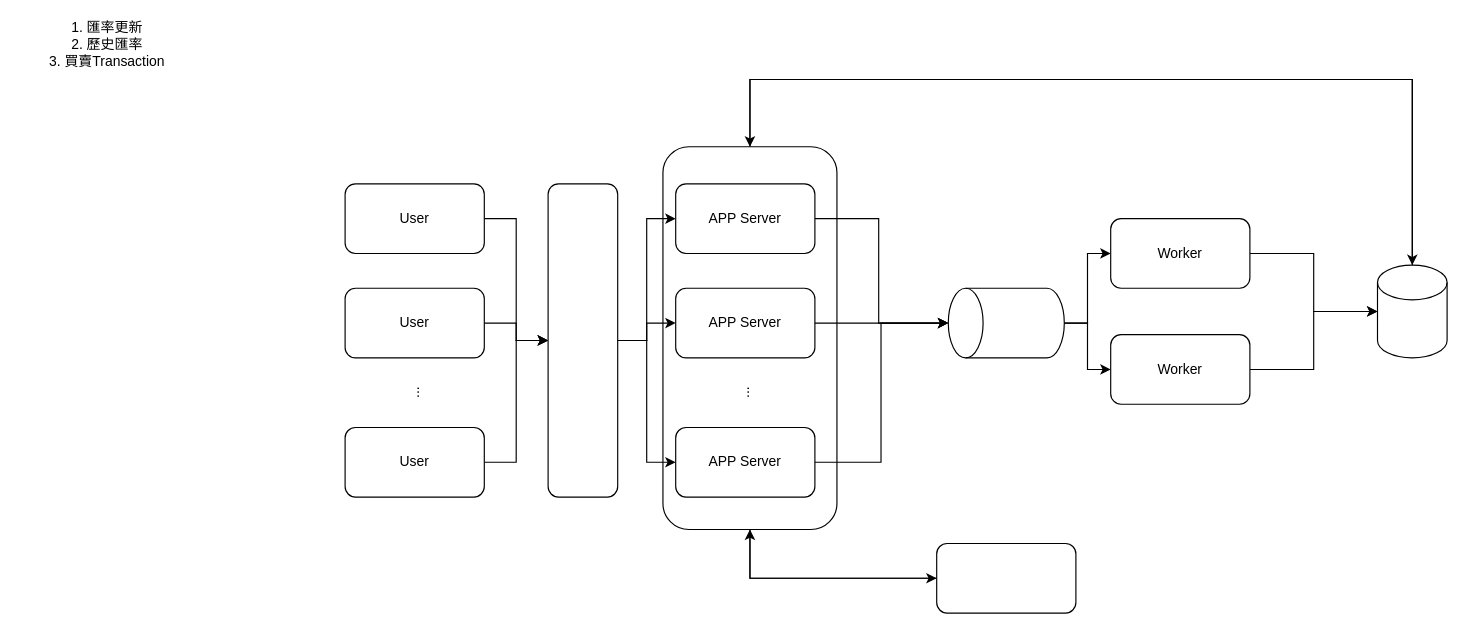
This 1467x633 diagram has some shape labels left out. The shapes that lost their labels are listed below. From the top down, each one's centre as x and y in pixels, then its label:
(x=1005, y=322): Task Queue
(x=1411, y=311): Account DB
(x=582, y=340): LB
(x=1006, y=577): 3rd party Payment services
